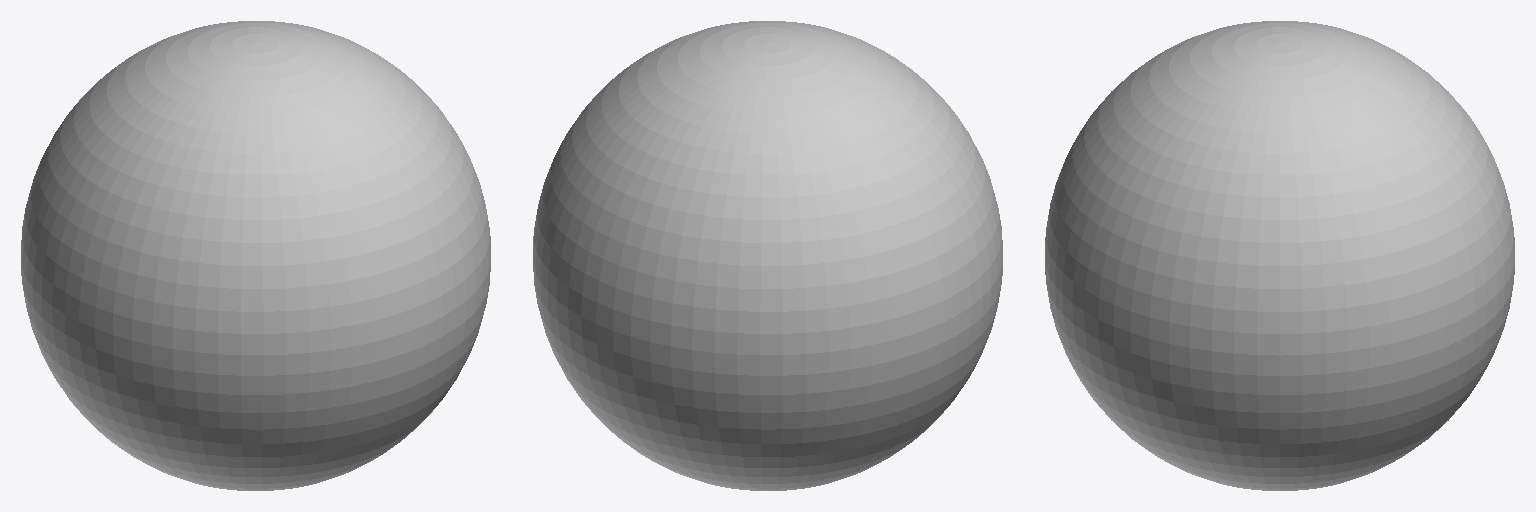
File: prettysphere.obj
3 renders of one model, left to right at view 1: azimuth 30°, elevation 25°; view 2: azimuth 150°, elevation 25°; view 3: azimuth 270°, elevation 25°, orthographic.
Visible parts, largest first — view 1: Sphere; view 2: Sphere; view 3: Sphere.
Boxes of the visible parts, x1,y1,x2,y2 form: Sphere: [21, 21, 490, 490]; Sphere: [533, 21, 1002, 490]; Sphere: [1045, 21, 1514, 490].
Bounding box in the file's own units: 2 × 2 × 2.